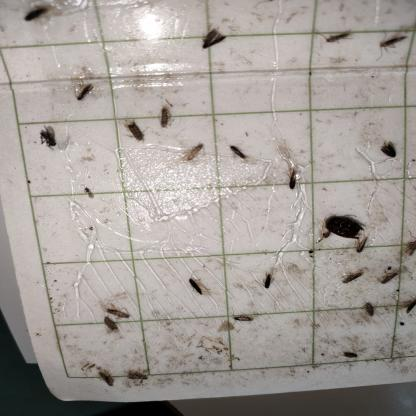prays_oleae: (374, 27, 414, 66), (34, 116, 63, 162), (320, 23, 358, 57), (196, 20, 230, 54), (180, 134, 210, 172), (182, 264, 210, 304), (118, 108, 147, 146), (126, 360, 153, 397), (64, 82, 97, 110), (281, 157, 303, 199), (103, 296, 135, 324), (225, 135, 250, 170), (376, 260, 400, 294), (96, 312, 124, 340), (336, 266, 367, 290), (156, 102, 174, 138), (399, 226, 416, 264), (376, 135, 397, 165), (350, 230, 374, 255), (230, 302, 254, 327), (262, 261, 276, 300), (337, 344, 361, 366), (402, 291, 416, 324), (362, 295, 378, 323)
